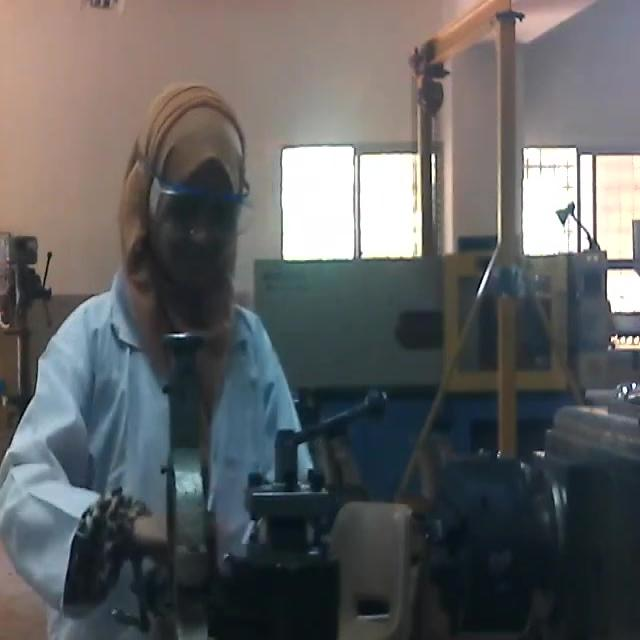googles: (142, 165, 258, 247)
labcoat: (1, 290, 338, 637)
